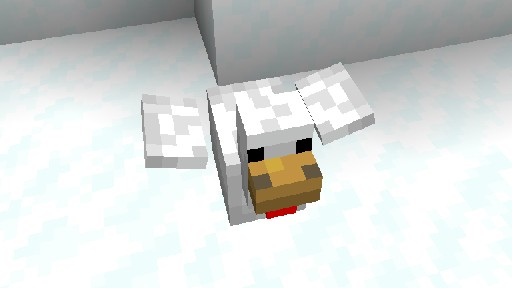chicken: (140, 61, 375, 243)
